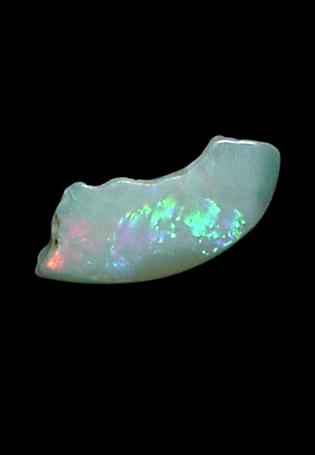opal: (36, 136, 281, 284)
